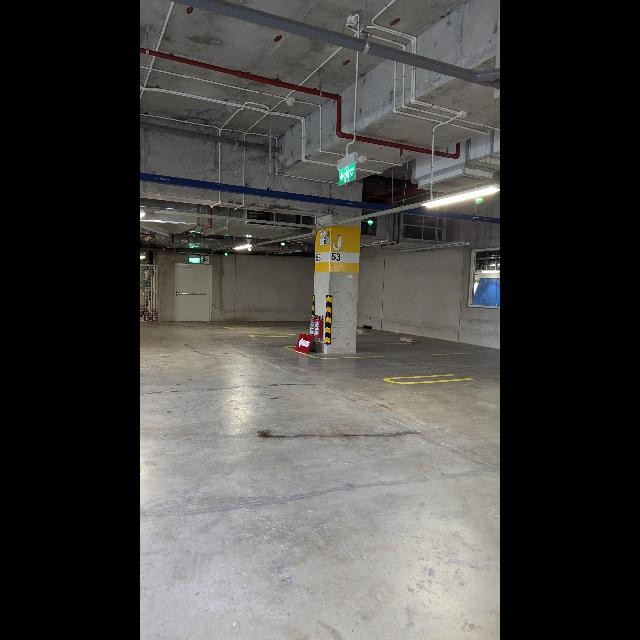exit: (339, 163, 356, 185)
